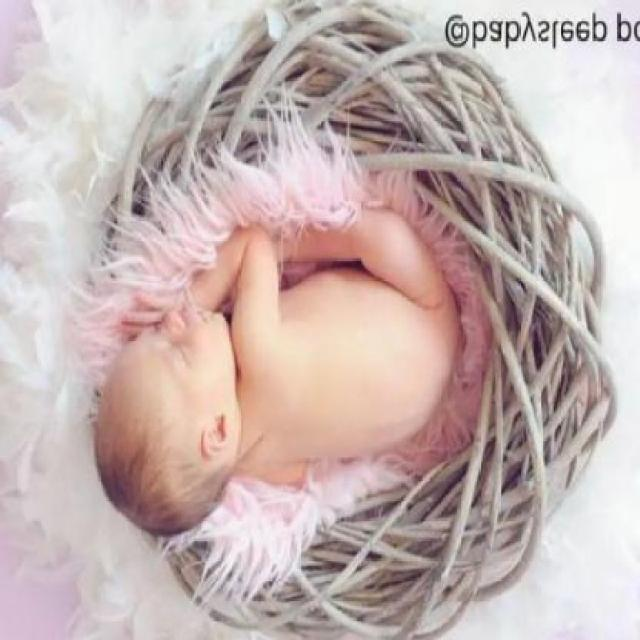baby: (89, 206, 460, 542)
